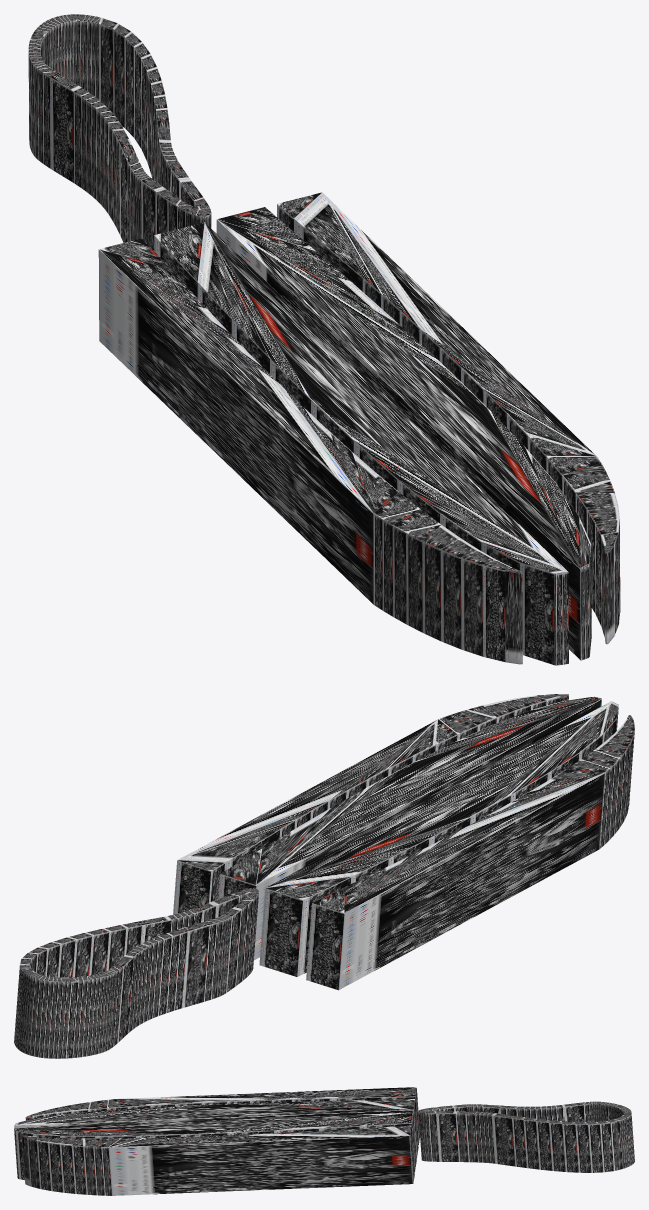
Rendered from tampon.obj.
The picture shows the model from 3 angles, top to bottom: view 1: azimuth 30°, elevation 25°; view 2: azimuth 150°, elevation 25°; view 3: azimuth 270°, elevation 25°; orthographic projection. The views are drawn at different scales.
Parts seen in each view (by area): view 1: 000_Bevel_-_baked; view 2: 000_Bevel_-_baked; view 3: 000_Bevel_-_baked.
Part boxes in pixels (x1,y1,x2,y2): 000_Bevel_-_baked: (28,14,620,665); 000_Bevel_-_baked: (14,694,634,1058); 000_Bevel_-_baked: (14,1087,634,1195).
Bounding box in the file's own units: 27.1 × 18.19 × 118.
1 material, 1 textured.
